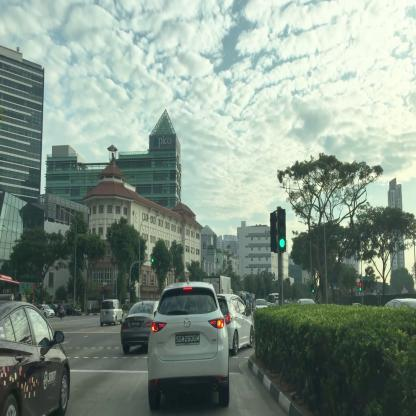green_traffic_light: (279, 210, 285, 250)
